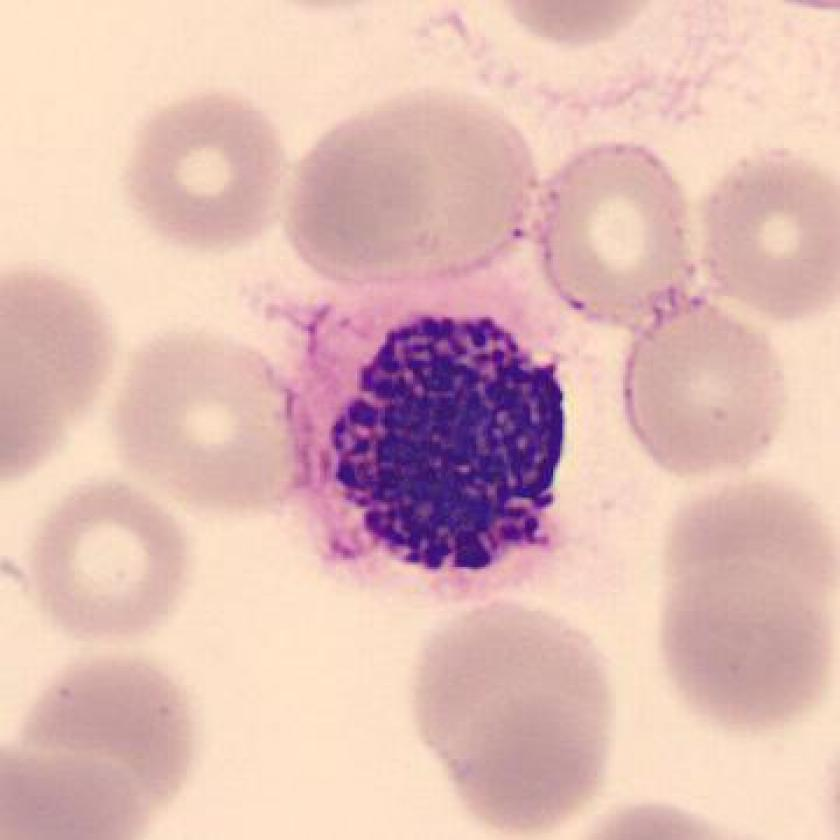basophil: (311, 297, 580, 591)
